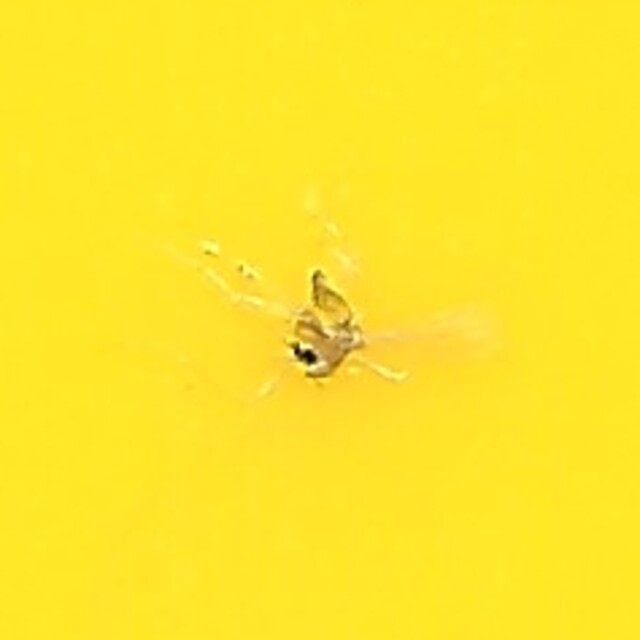Nematocera: (270, 262, 370, 378)
